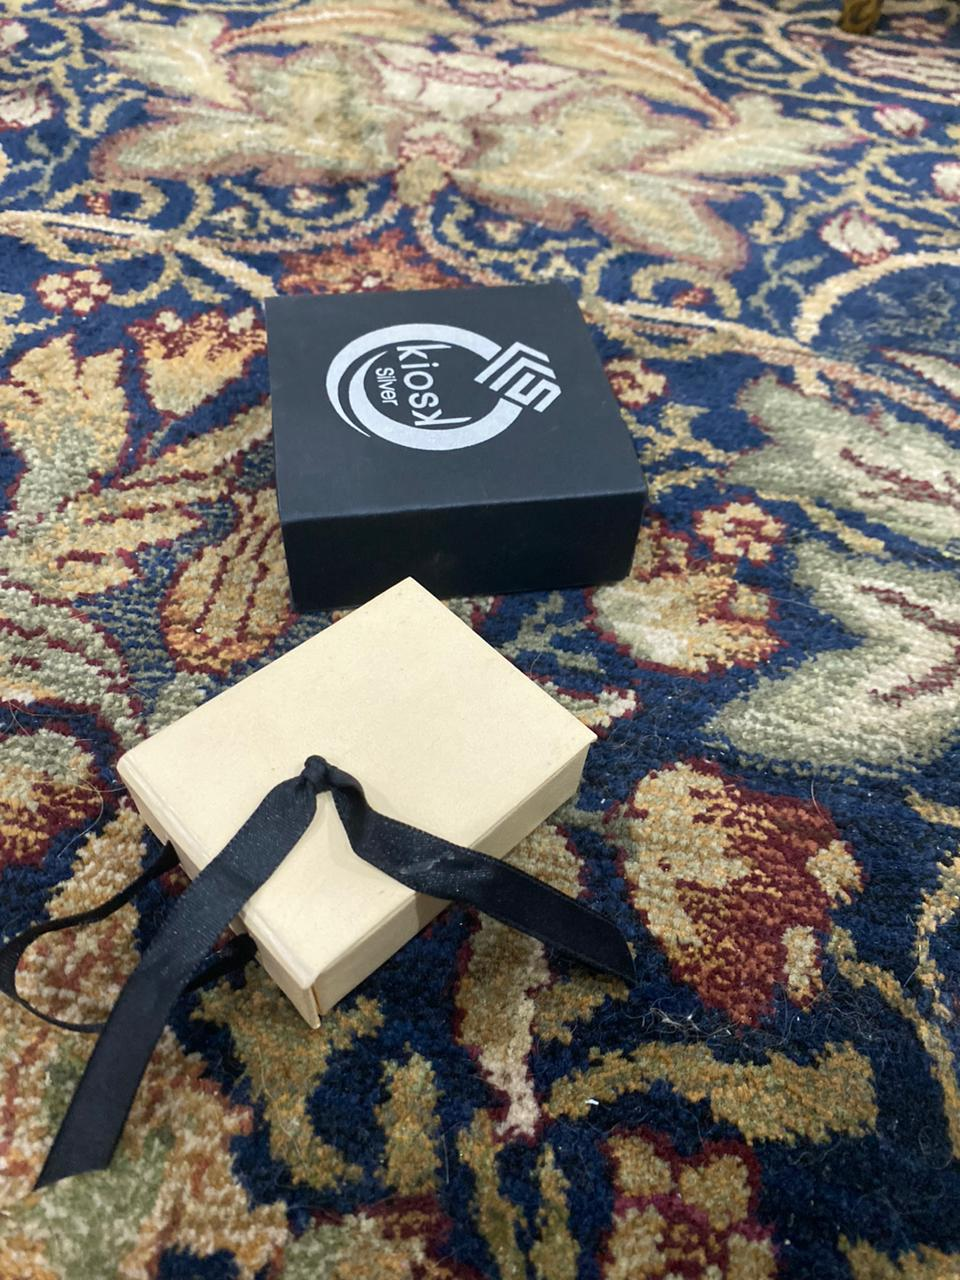Red Box: (258, 283, 653, 596)
Yellow Box: (117, 570, 605, 1022)
